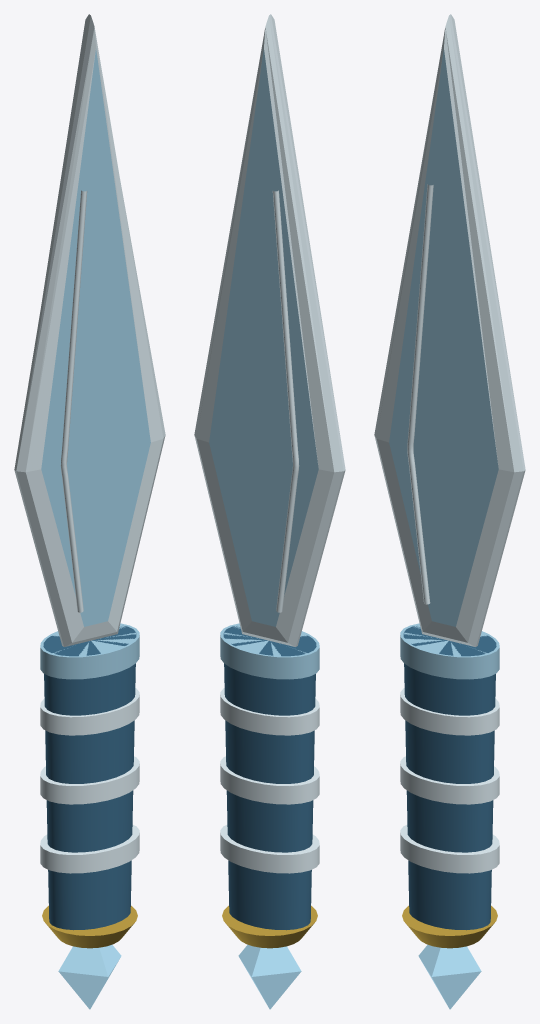
File: 14_Uncommon_Ice_Shard.glb
3 views of the same model, side by side, from view 1: azimuth 30°, elevation 25°; view 2: azimuth 150°, elevation 25°; view 3: azimuth 330°, elevation 25° (orthographic).
Visible parts, largest first — view 1: blade_0, handle_1, ferrule_5, blade_inlay_9, pommel_gem_7, handle_band_4, handle_band_3, handle_band_2, pommel_cap_6; view 2: blade_0, handle_1, ferrule_5, blade_inlay_8, pommel_gem_7, handle_band_4, handle_band_3, handle_band_2, pommel_cap_6; view 3: blade_0, handle_1, ferrule_5, blade_inlay_9, pommel_gem_7, handle_band_4, handle_band_3, handle_band_2, pommel_cap_6.
Boxes of the visible parts, left/top/right/bottom form: blade_0: left=14, top=14, right=165, bottom=646; handle_1: left=43, top=626, right=136, bottom=930; ferrule_5: left=40, top=623, right=139, bottom=679; blade_inlay_9: left=60, top=190, right=87, bottom=612; pommel_gem_7: left=58, top=944, right=121, bottom=1009; handle_band_4: left=40, top=825, right=139, bottom=873; handle_band_3: left=40, top=756, right=139, bottom=804; handle_band_2: left=40, top=688, right=139, bottom=735; pommel_cap_6: left=42, top=905, right=137, bottom=948; blade_0: left=194, top=14, right=345, bottom=646; handle_1: left=223, top=626, right=316, bottom=930; ferrule_5: left=220, top=623, right=319, bottom=679; blade_inlay_8: left=272, top=190, right=299, bottom=612; pommel_gem_7: left=238, top=944, right=301, bottom=1009; handle_band_4: left=220, top=825, right=319, bottom=873; handle_band_3: left=220, top=756, right=319, bottom=804; handle_band_2: left=220, top=688, right=319, bottom=735; pommel_cap_6: left=222, top=905, right=317, bottom=948; blade_0: left=374, top=14, right=525, bottom=646; handle_1: left=403, top=626, right=496, bottom=930; ferrule_5: left=400, top=623, right=499, bottom=679; blade_inlay_9: left=407, top=184, right=433, bottom=604; pommel_gem_7: left=418, top=944, right=481, bottom=1009; handle_band_4: left=400, top=825, right=499, bottom=873; handle_band_3: left=400, top=756, right=499, bottom=804; handle_band_2: left=400, top=688, right=499, bottom=735; pommel_cap_6: left=402, top=905, right=497, bottom=948.
Bounding box in the file's own units: 0.085 × 0.5412 × 0.0473.
8 materials, 8 textured.
